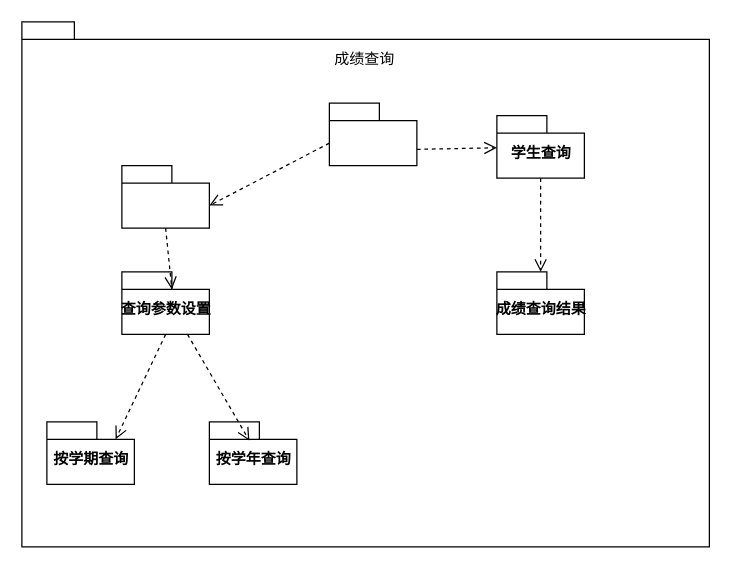
Image size: 731x569. Some labels were removed from this diagram. Each missing label, with the centre of its shape:
参数设置: (165,196)
成绩查询界面: (372,134)
